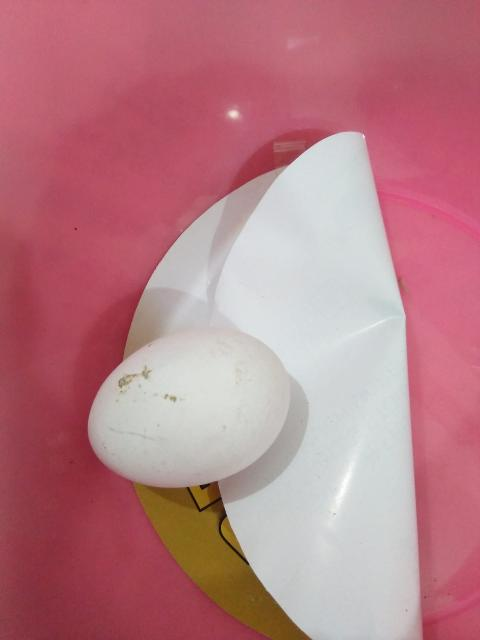Sano: (86, 326, 289, 489)
